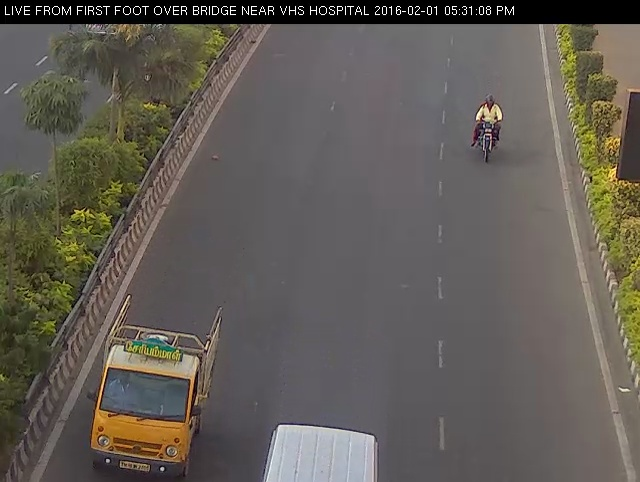Auto: (73, 287, 230, 482)
Car: (250, 408, 387, 482)
Person: (469, 81, 508, 174)
